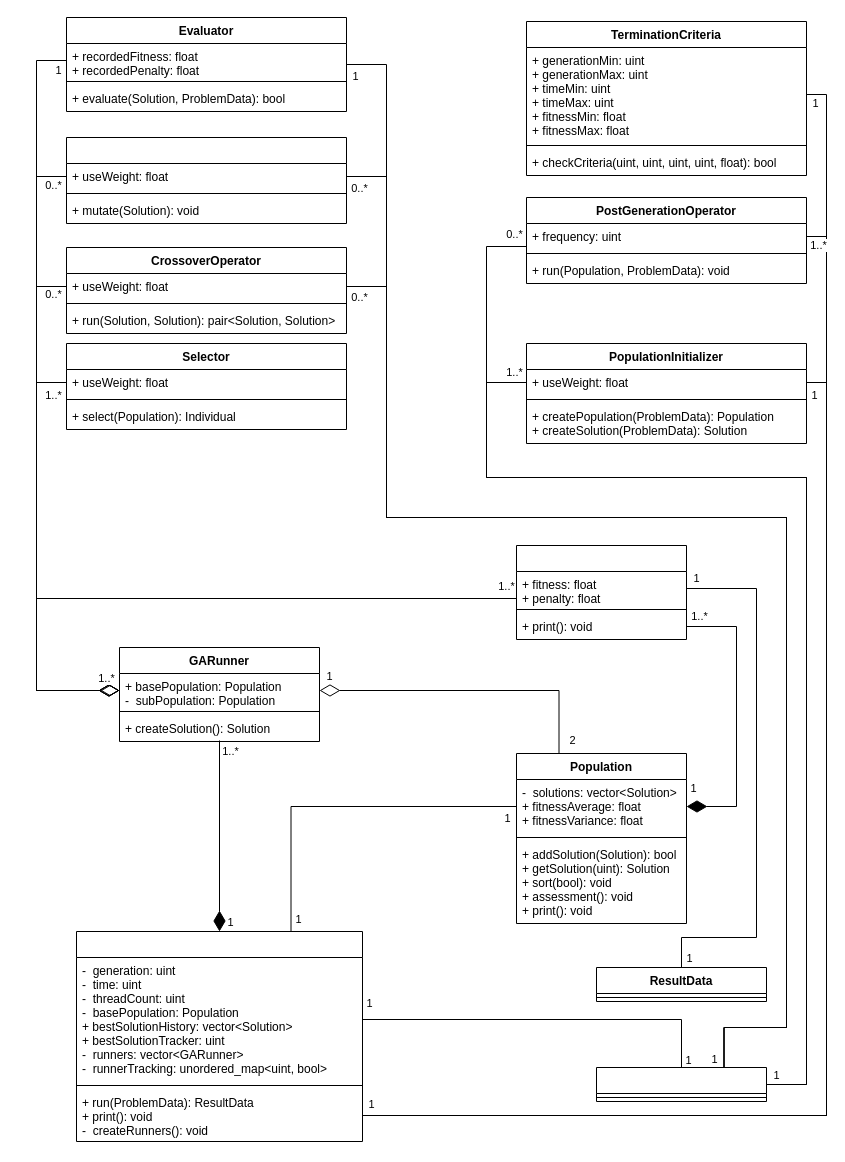
This 845x1162 diagram has some shape labels left out. The box of each missing label's shape, as (x1, y1, x2, y2) in pixels:
GA: (76, 930, 362, 1142)
MutationOperator: (66, 136, 346, 224)
ProblemData: (596, 1066, 766, 1102)
Solution: (516, 544, 686, 640)
